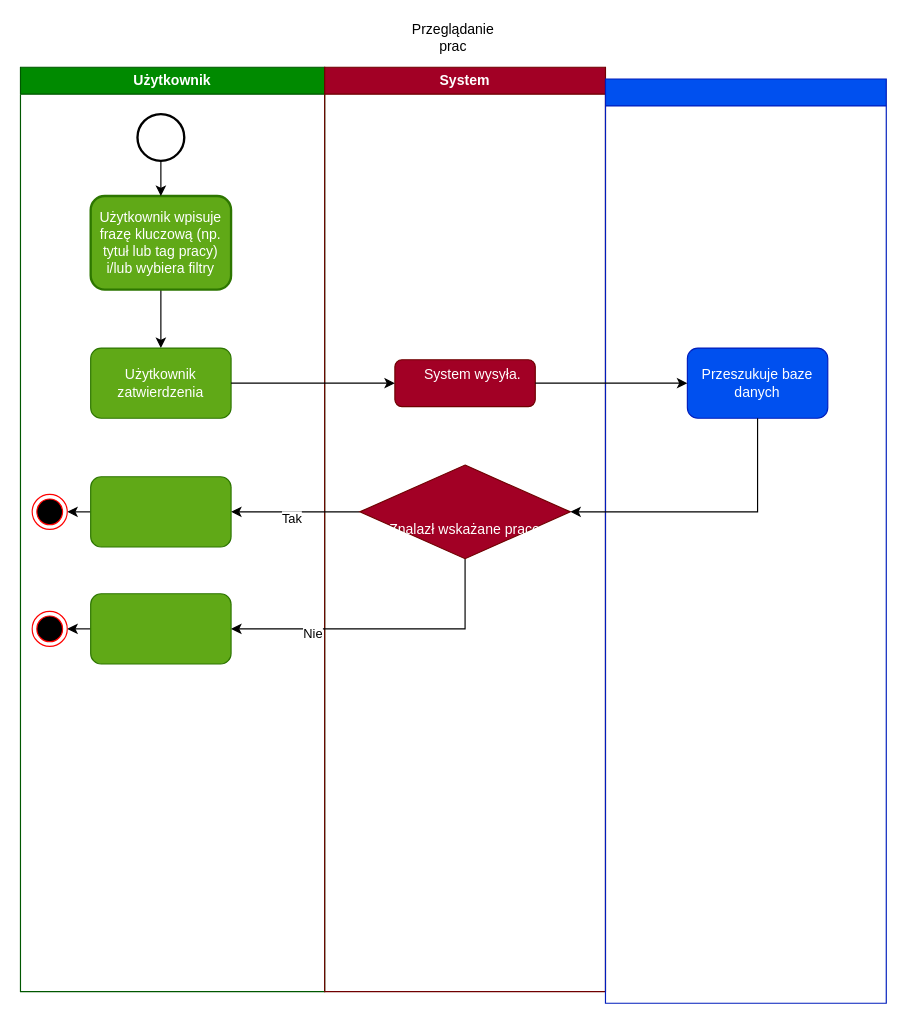
Image size: 907x1024. Some labels were removed from this diagram. The shapes that lost their labels are listed below. From the top down, each one's box as (x1, y1, x2, y2) in pixels, then its label:
(90, 476, 231, 547): Wyświetla znalezione prace
(604, 78, 886, 1003): Baza danych
(90, 593, 231, 664): Proponuje zmiane filtrów
